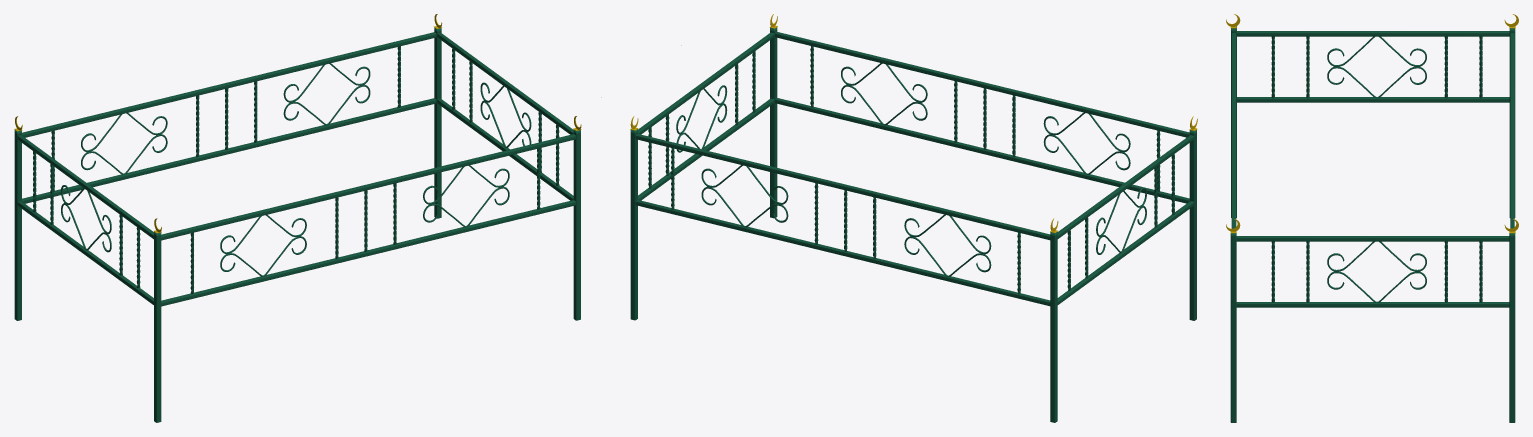
The model's file is Ограда Ромб [u_100_muslim] (green).glb.
3 renders of one model, left to right at view 1: azimuth 30°, elevation 25°; view 2: azimuth 150°, elevation 25°; view 3: azimuth 270°, elevation 25°, orthographic.
Visible parts, largest first — view 1: Плоскость.109; view 2: Плоскость.109; view 3: Плоскость.109.
Boxes of the visible parts, x1,y1,x2,y2 form: Плоскость.109: [14, 14, 601, 422]; Плоскость.109: [630, 14, 1197, 422]; Плоскость.109: [1226, 14, 1518, 422].
Bounding box in the file's own units: 2.4 × 0.9675 × 1.27.
